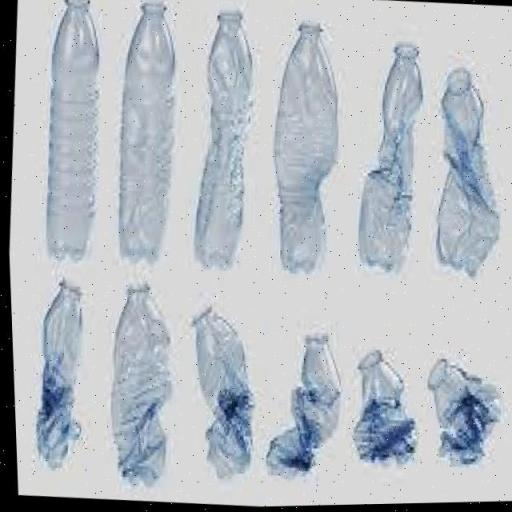plastic: (178, 4, 270, 282), (258, 14, 352, 284), (340, 32, 436, 291), (27, 0, 117, 266), (102, 0, 188, 273), (417, 53, 512, 298), (90, 276, 186, 498), (171, 295, 264, 484), (256, 313, 349, 490), (20, 276, 94, 472), (413, 341, 501, 480), (333, 334, 418, 477)
